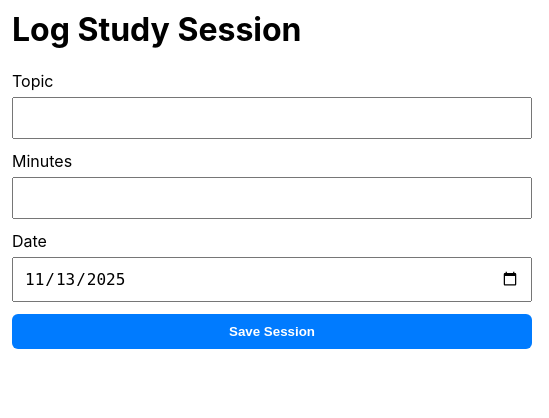
Study page › shows backend error on failure
Type "Chemistry" into the field labelled "Topic".
click(272, 118); type("Chemistry")  # box [12, 97, 532, 139]
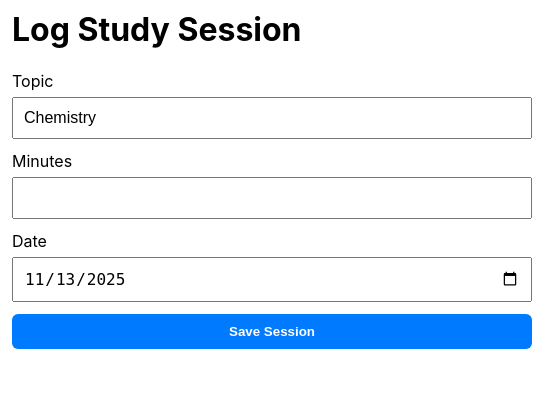
Type "30" into the number field labelled "Minutes".
click(272, 198); type("30")  # box [12, 177, 532, 219]
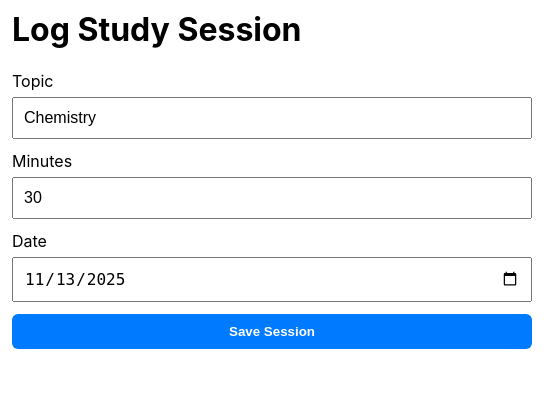
Click the button "Save Session".
click(272, 331)  # box [12, 314, 532, 349]
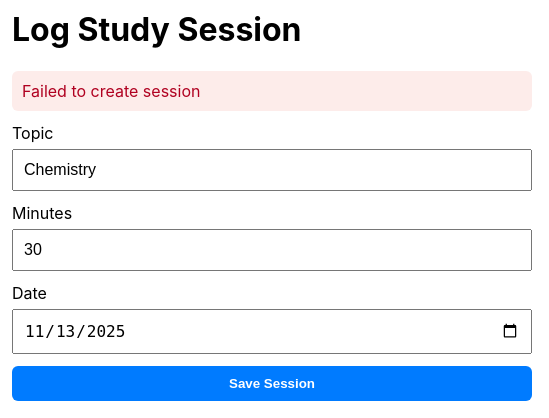
Check: the message reads "Failed to create session", box [22, 81, 200, 101]
